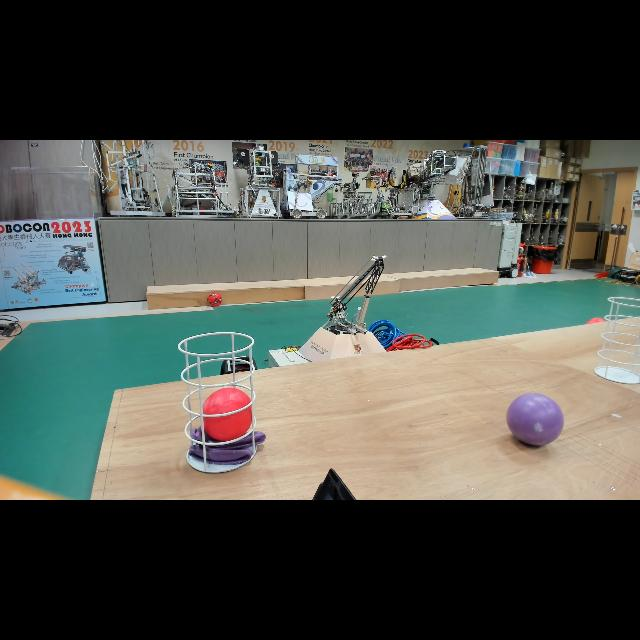P: (506, 391, 566, 451)
R: (201, 386, 255, 444)
S: (176, 330, 260, 474), (590, 292, 640, 386)
